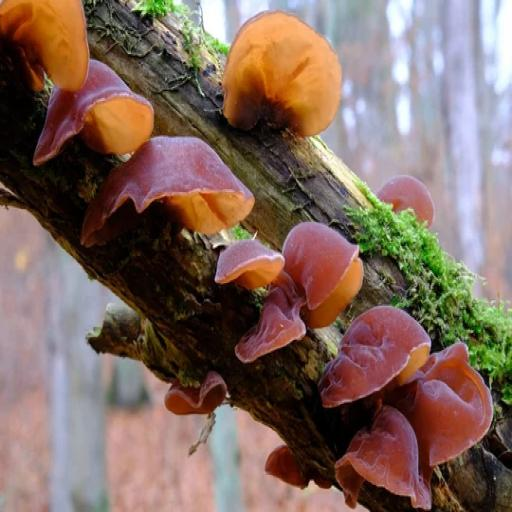Wood Ear Mushroom: (77, 135, 259, 258), (221, 1, 346, 149), (28, 63, 154, 190), (320, 292, 423, 416), (264, 212, 360, 323), (405, 340, 486, 466), (324, 410, 424, 512), (0, 0, 103, 84), (201, 228, 291, 303), (373, 158, 438, 246), (164, 362, 240, 429), (234, 288, 296, 370), (259, 441, 324, 506)
